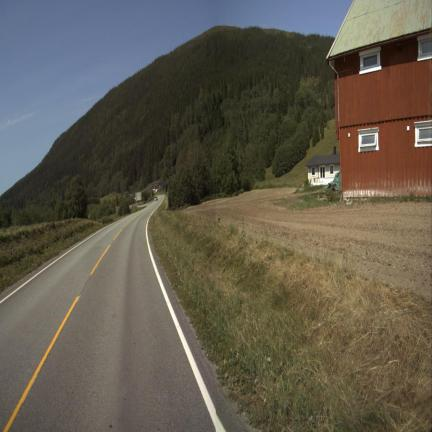Road: (0, 200, 244, 431)
